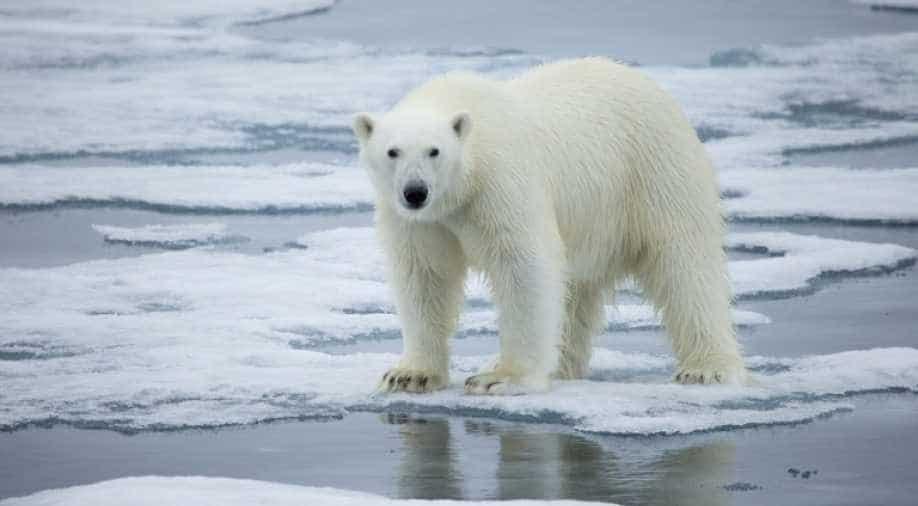bear: (357, 55, 745, 396)
